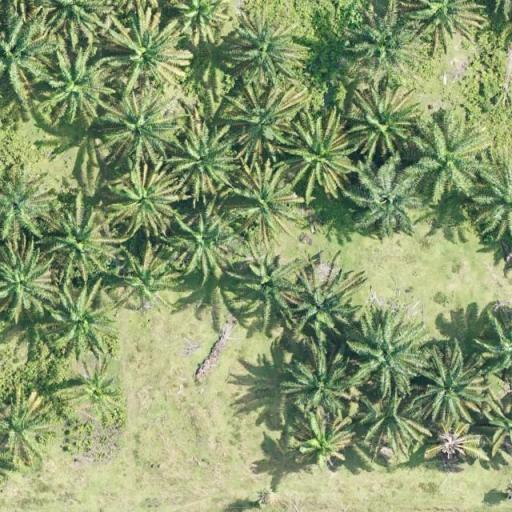Ganoderma: (78, 373, 115, 411), (437, 426, 470, 462)
